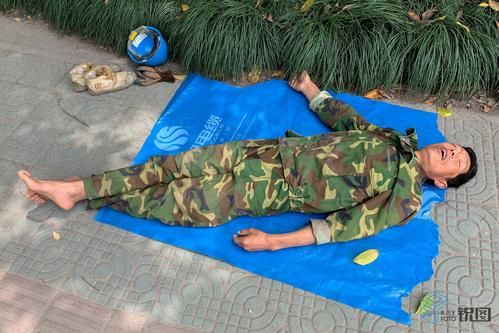down: (19, 76, 484, 260)
